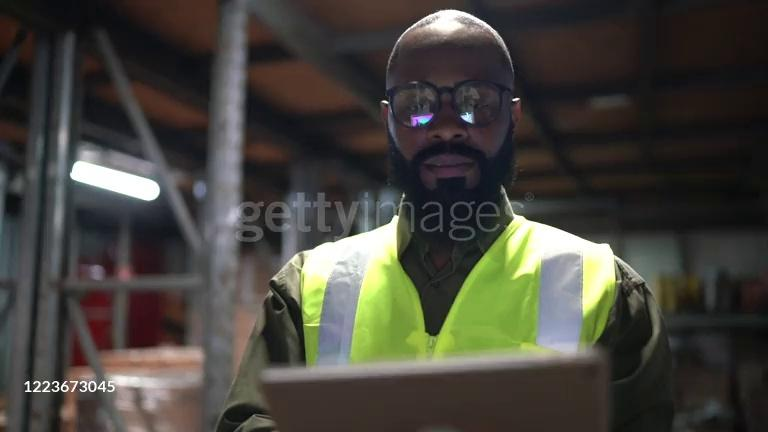person: (215, 10, 676, 432)
